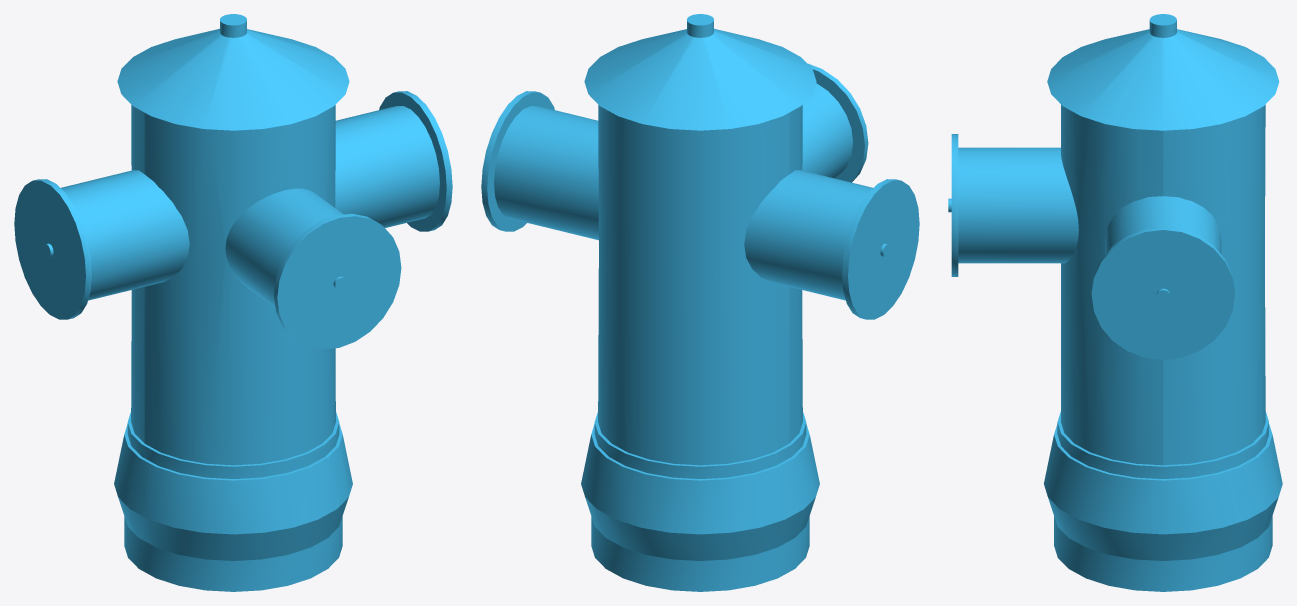
3 renders of one model, left to right at view 1: azimuth 30°, elevation 25°; view 2: azimuth 150°, elevation 25°; view 3: azimuth 270°, elevation 25°, orthographic.
Bounding box in the file's own units: 816 × 1101 × 635.
